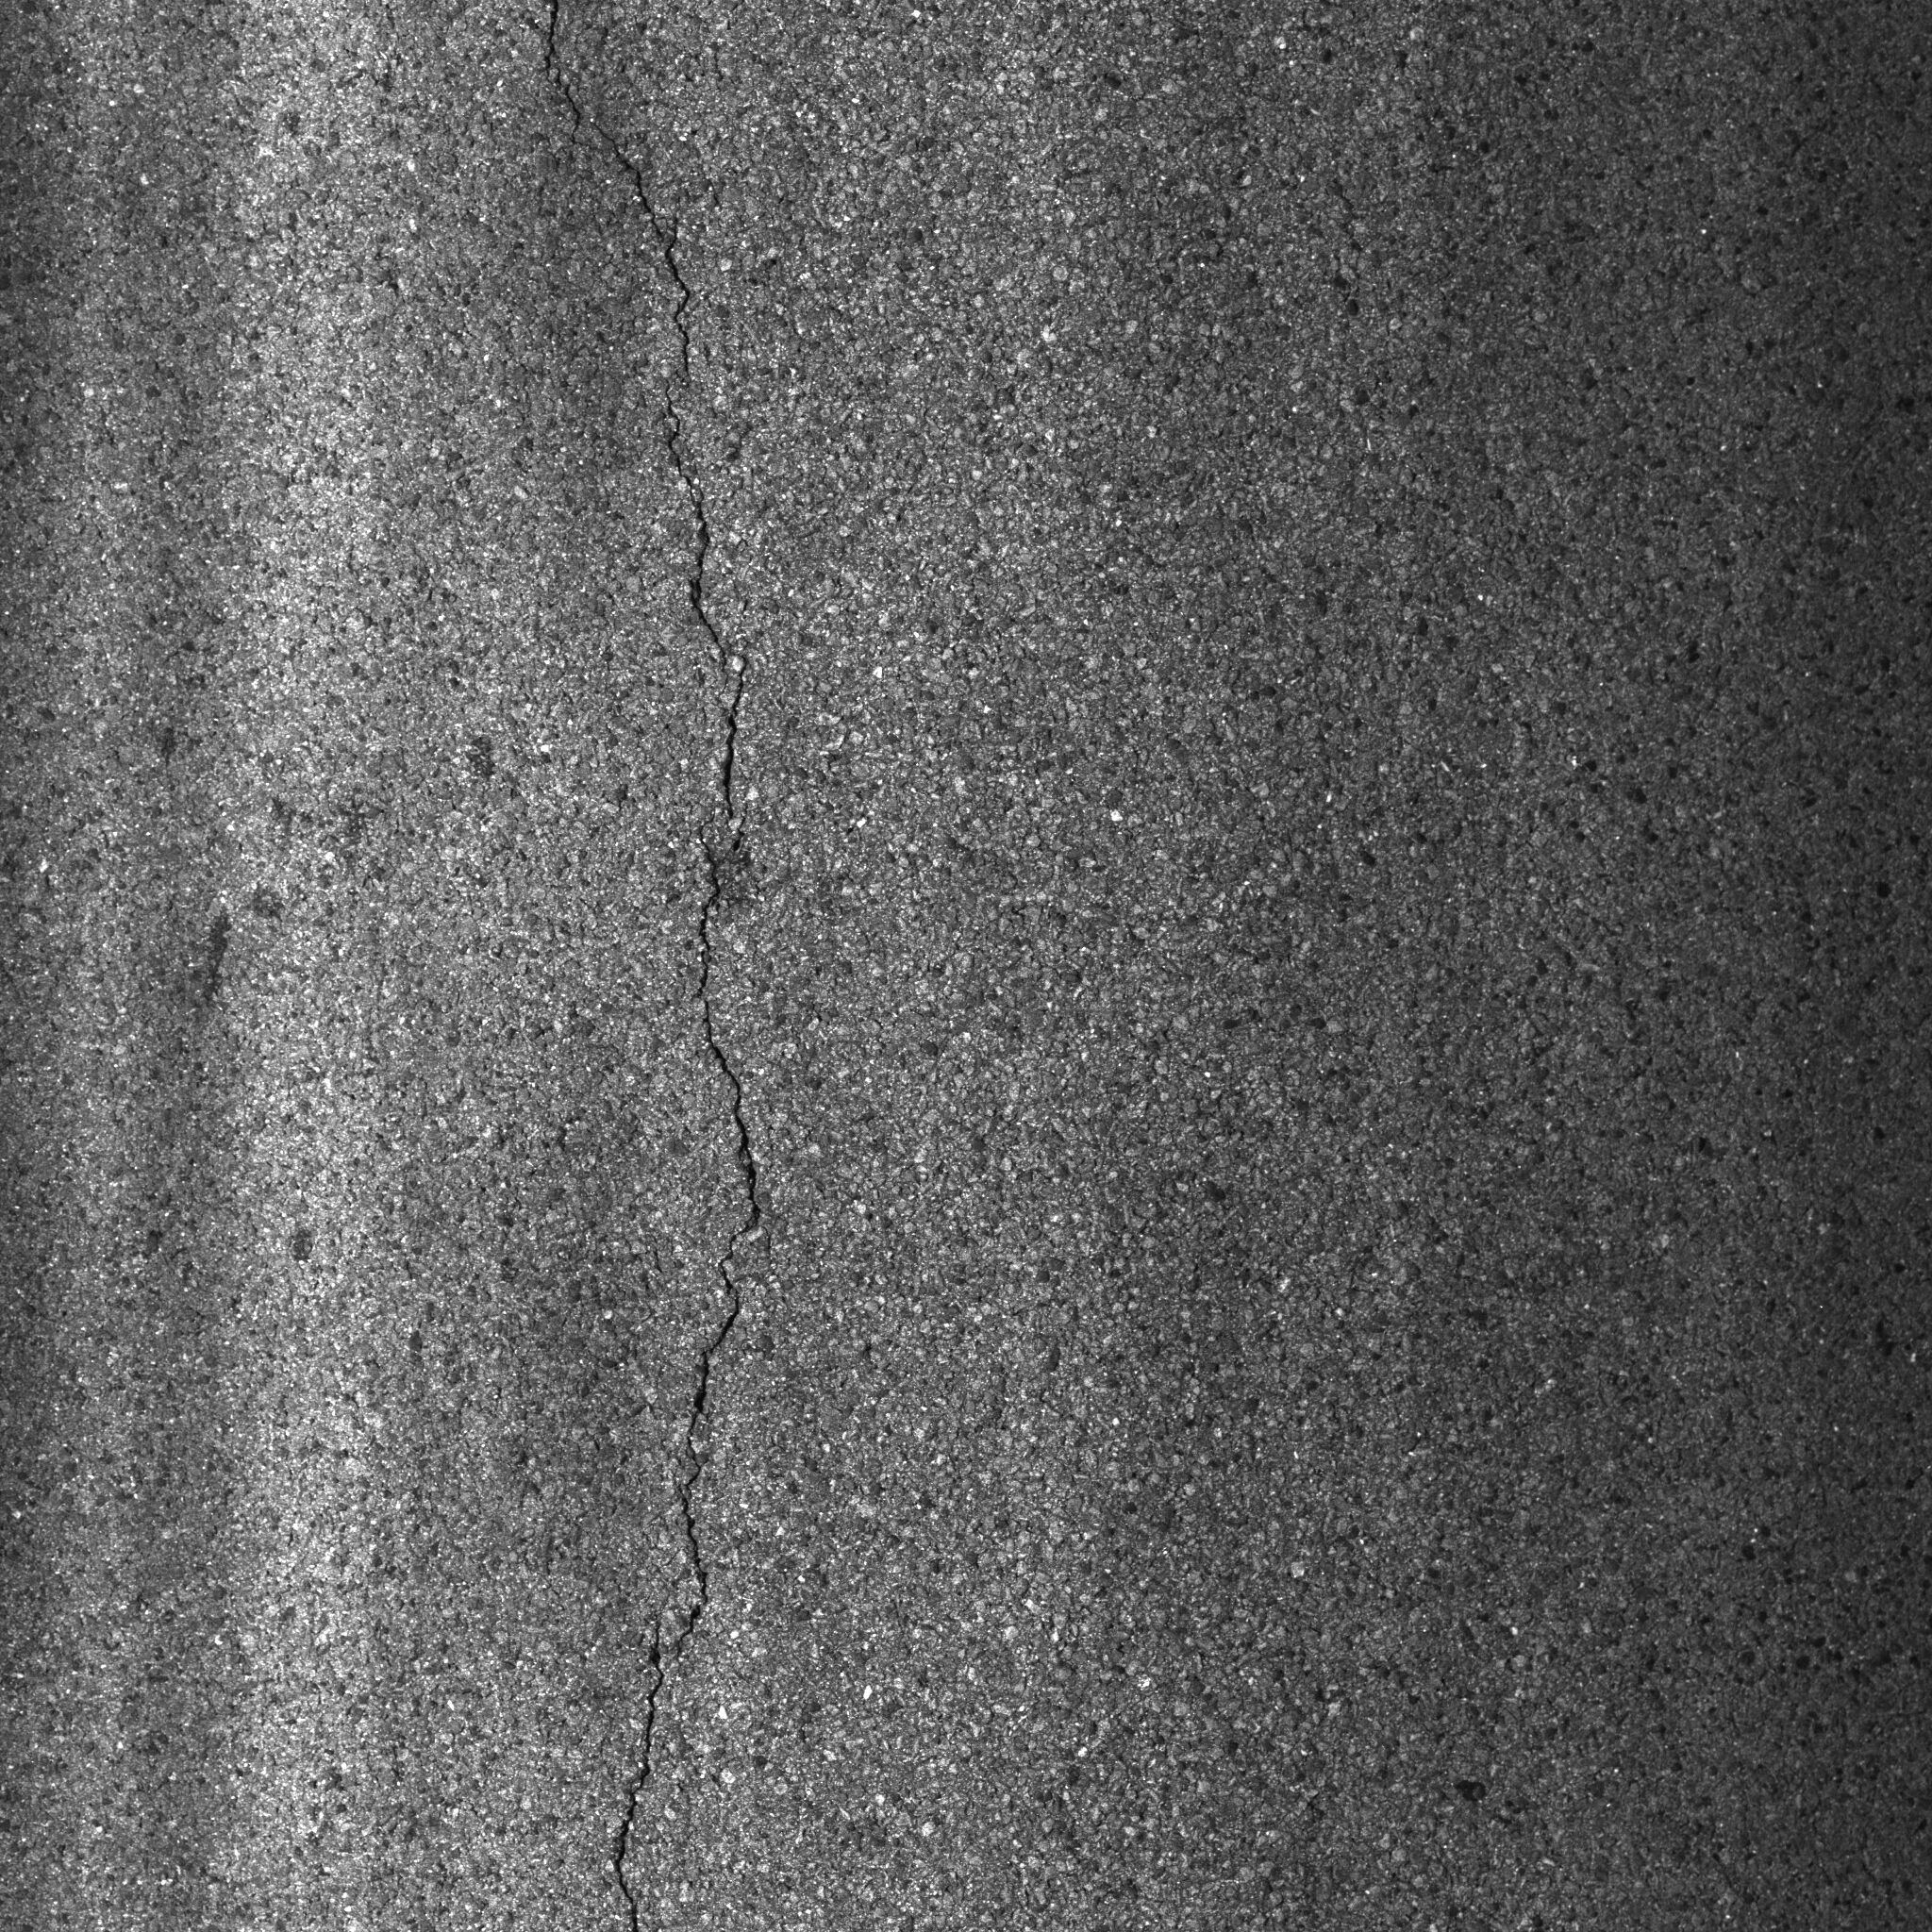longitudinal: (499, 2, 876, 1932)
